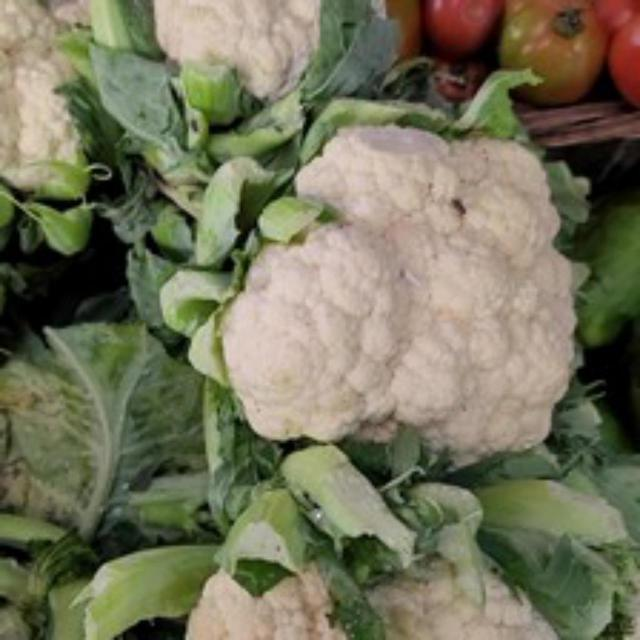cauliflower: (199, 101, 610, 494)
